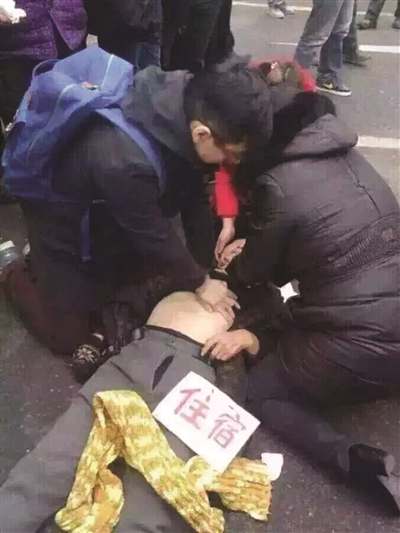fall: (19, 203, 292, 533)
